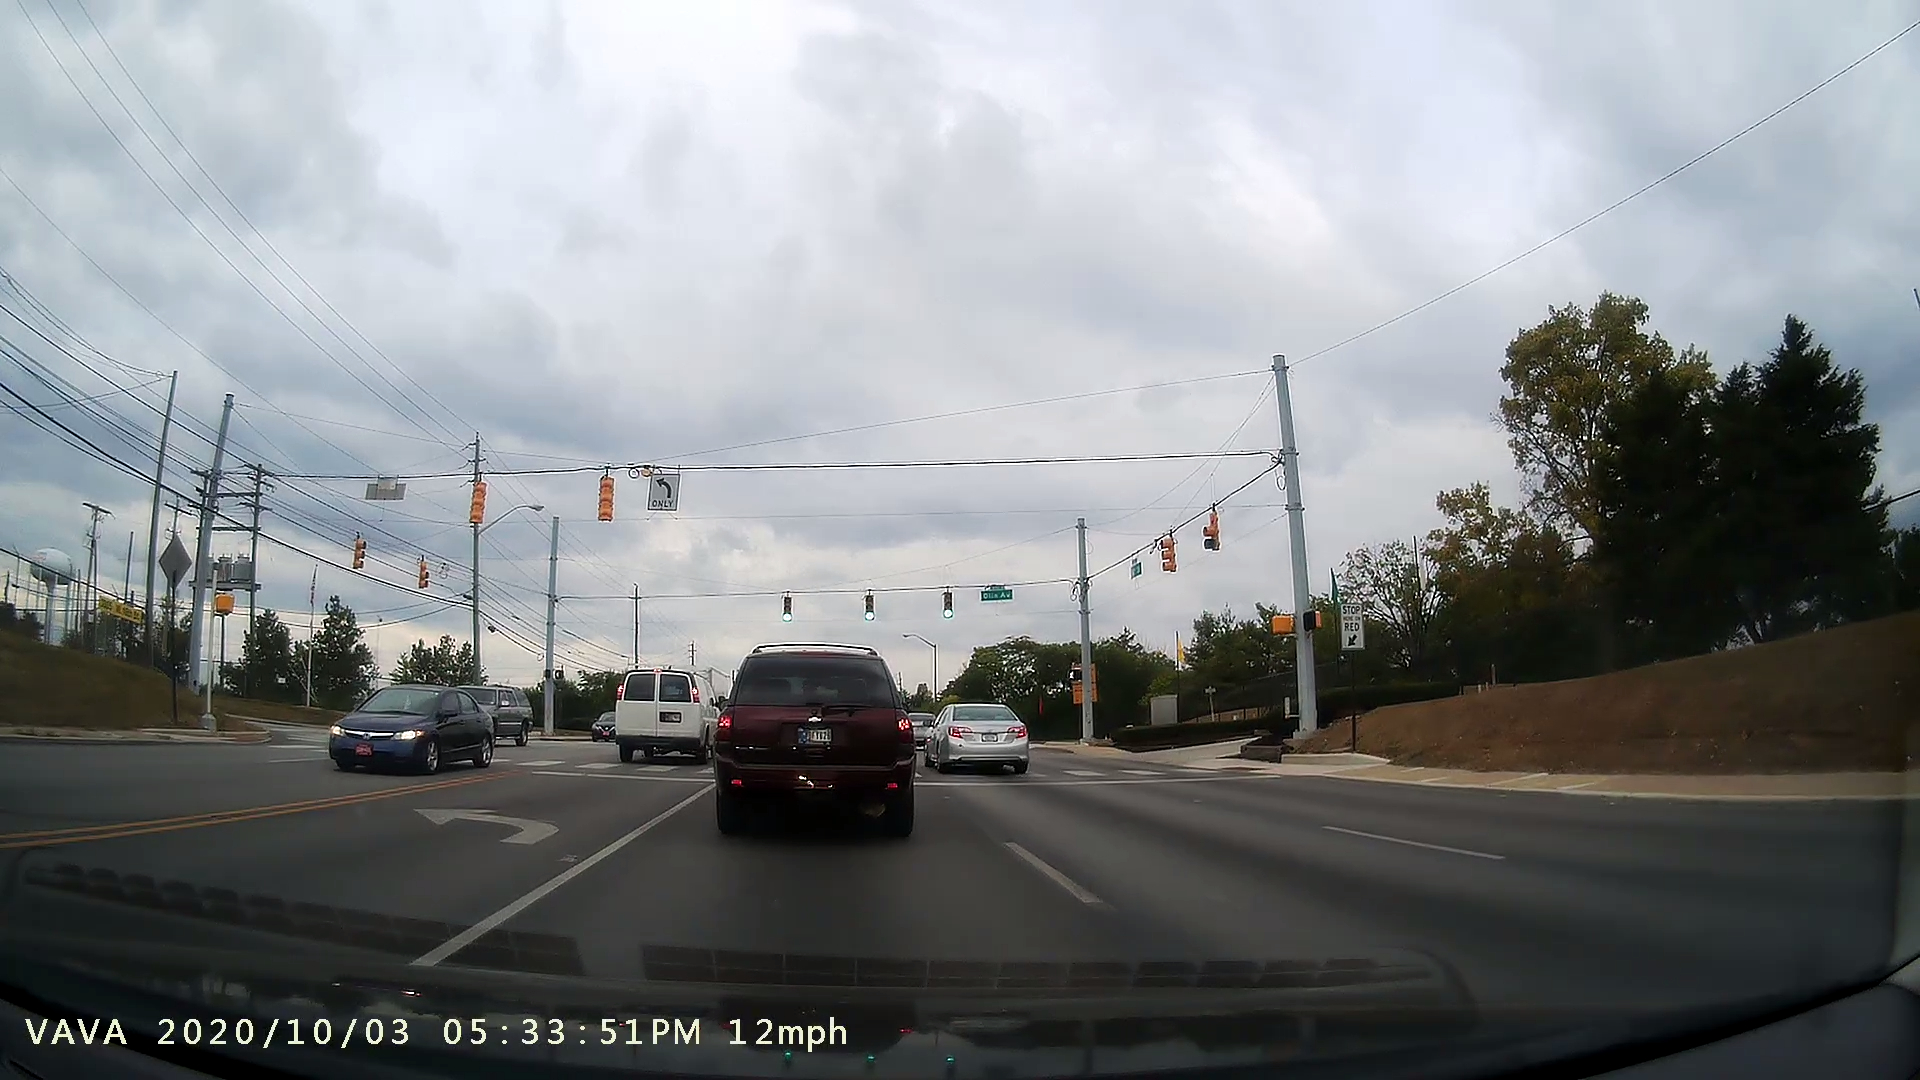left_turn: (407, 787, 574, 855)
